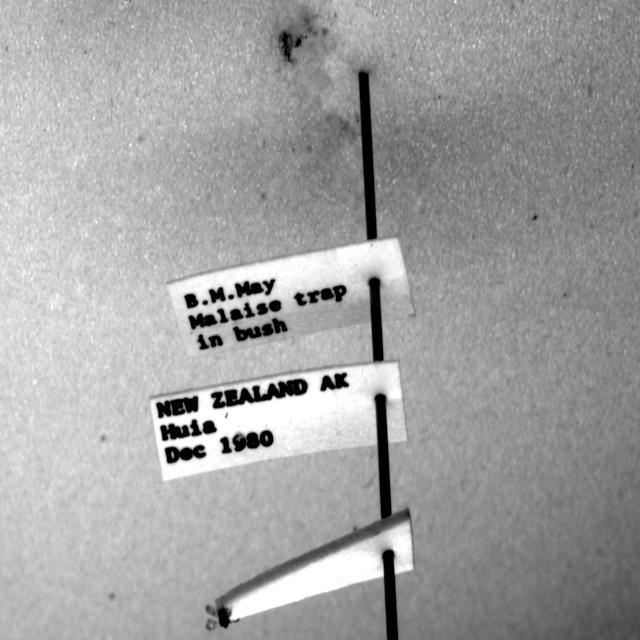typed_label: (150, 362, 408, 480), (168, 238, 415, 356)
